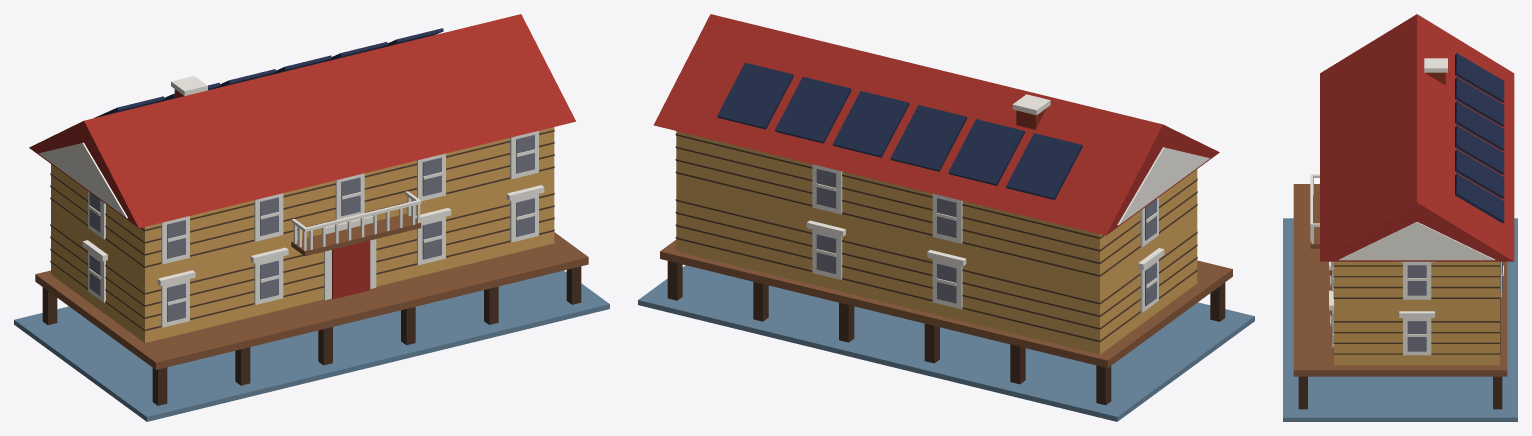
Rendered from house-2x1-2f-palafito-a-solar.glb.
3 renders of one model, left to right at view 1: azimuth 30°, elevation 25°; view 2: azimuth 150°, elevation 25°; view 3: azimuth 270°, elevation 25°, orthographic. The views are drawn at different scales.
Visible parts, largest first — view 1: house-2x1-2f-palafito-a-solar; view 2: house-2x1-2f-palafito-a-solar; view 3: house-2x1-2f-palafito-a-solar.
Boxes of the visible parts, box(x1,y1,x2,y2) form: house-2x1-2f-palafito-a-solar: box(14, 14, 609, 421); house-2x1-2f-palafito-a-solar: box(638, 14, 1254, 421); house-2x1-2f-palafito-a-solar: box(1283, 14, 1517, 421).
Size of the model in its own units: 1.99 by 1 by 0.99.
Materials: 1 (1 with a texture image).
